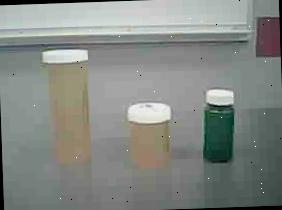Bottle A: (36, 38, 104, 171)
Bottle B: (124, 96, 176, 170)
Bottle C: (195, 84, 244, 170)
